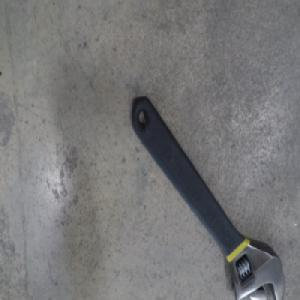AdjustableWrench: (130, 96, 284, 299)
